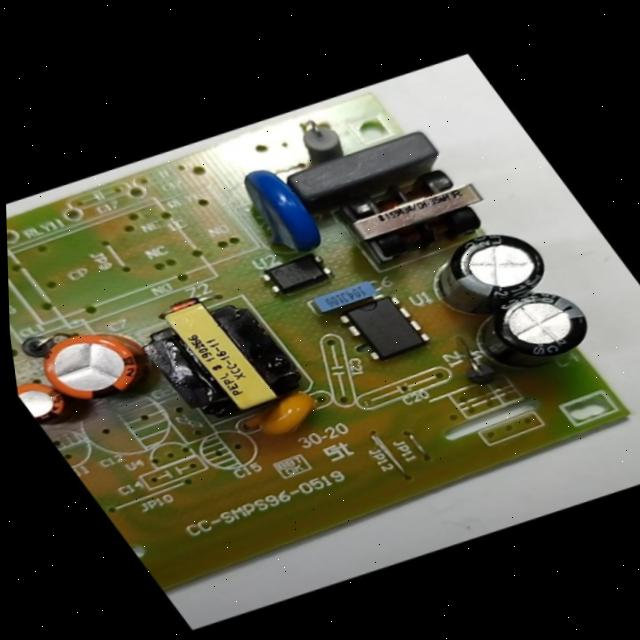Cap1: (14, 297, 178, 428)
Cap2: (14, 363, 87, 434)
Cap3: (394, 205, 574, 340)
Cap4: (437, 263, 618, 394)
MOSFET: (327, 277, 446, 378)
Mov: (217, 147, 347, 275)
Resistor: (270, 101, 366, 175)
Transformer: (111, 263, 333, 447), (314, 141, 519, 288)
